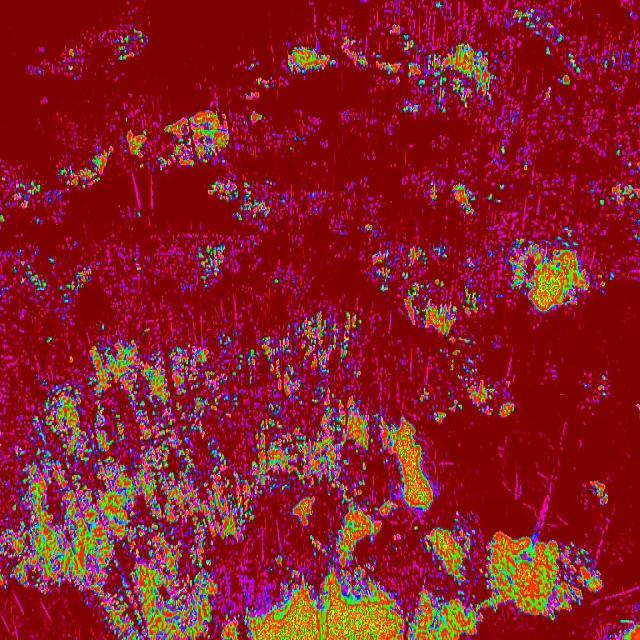fire: (0, 234, 472, 640), (472, 532, 612, 622), (399, 37, 502, 119), (0, 142, 113, 212), (512, 228, 600, 316), (156, 111, 236, 172), (208, 178, 274, 224), (342, 34, 402, 80), (513, 8, 566, 53), (278, 41, 336, 81), (472, 369, 519, 417), (112, 23, 151, 68), (601, 176, 640, 216), (452, 174, 480, 218), (120, 128, 152, 163), (609, 611, 640, 640), (584, 480, 612, 505)
